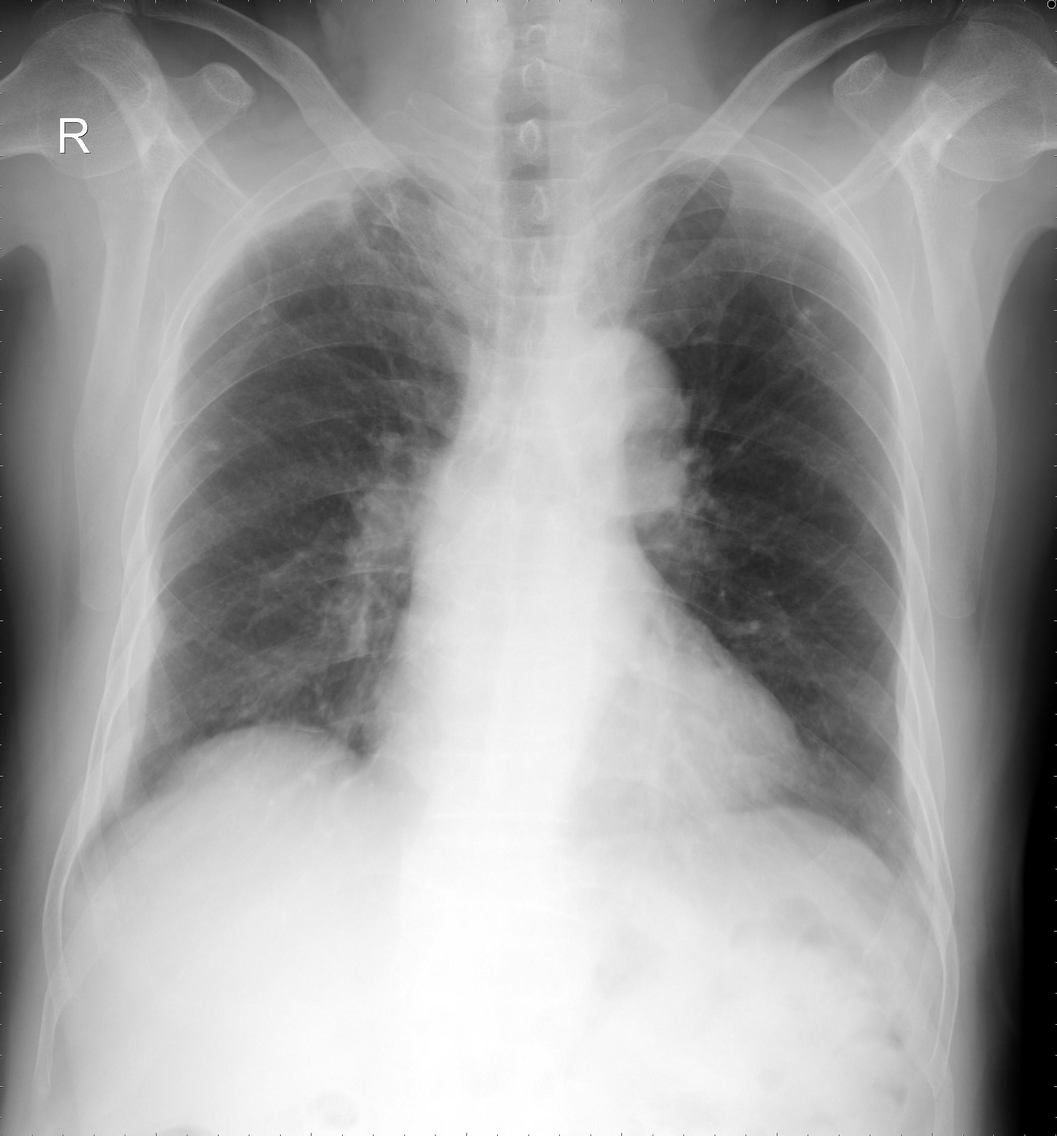Aortic enlargement: (541, 324, 688, 458)
Cardiomegaly: (358, 635, 811, 821)
Pleural thickening: (244, 144, 462, 245), (103, 594, 161, 814), (673, 152, 794, 180)
